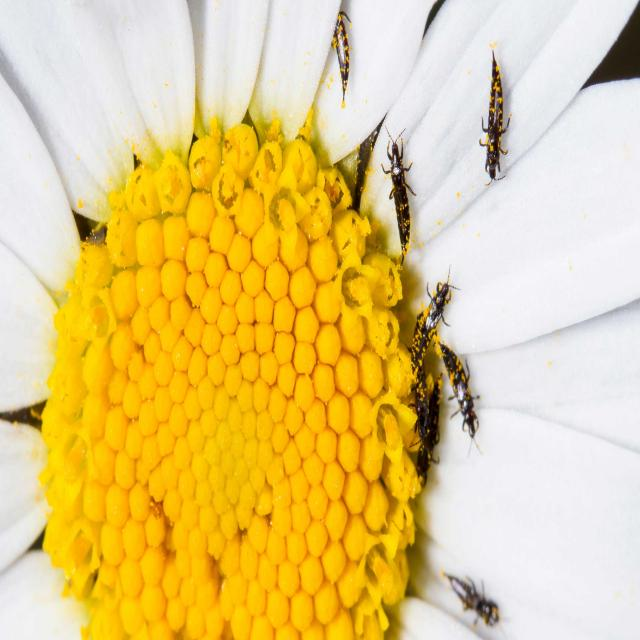Thrip-Adult-: (406, 258, 471, 380), (478, 30, 519, 196), (378, 121, 422, 272), (437, 330, 486, 455), (445, 556, 503, 634), (414, 367, 450, 490)
